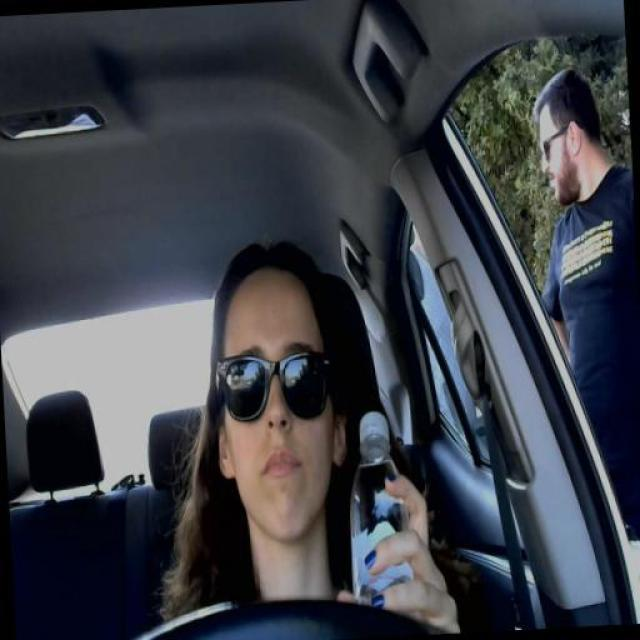Seatbelt: (351, 411, 419, 610)
